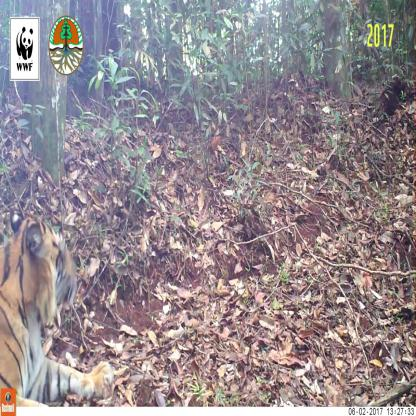Tiger: (0, 194, 113, 416)
